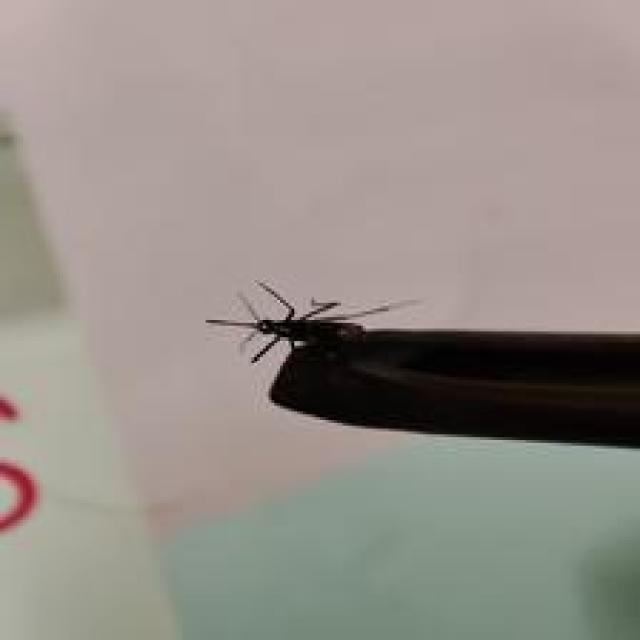Aedes albopictus: (205, 277, 640, 460)
